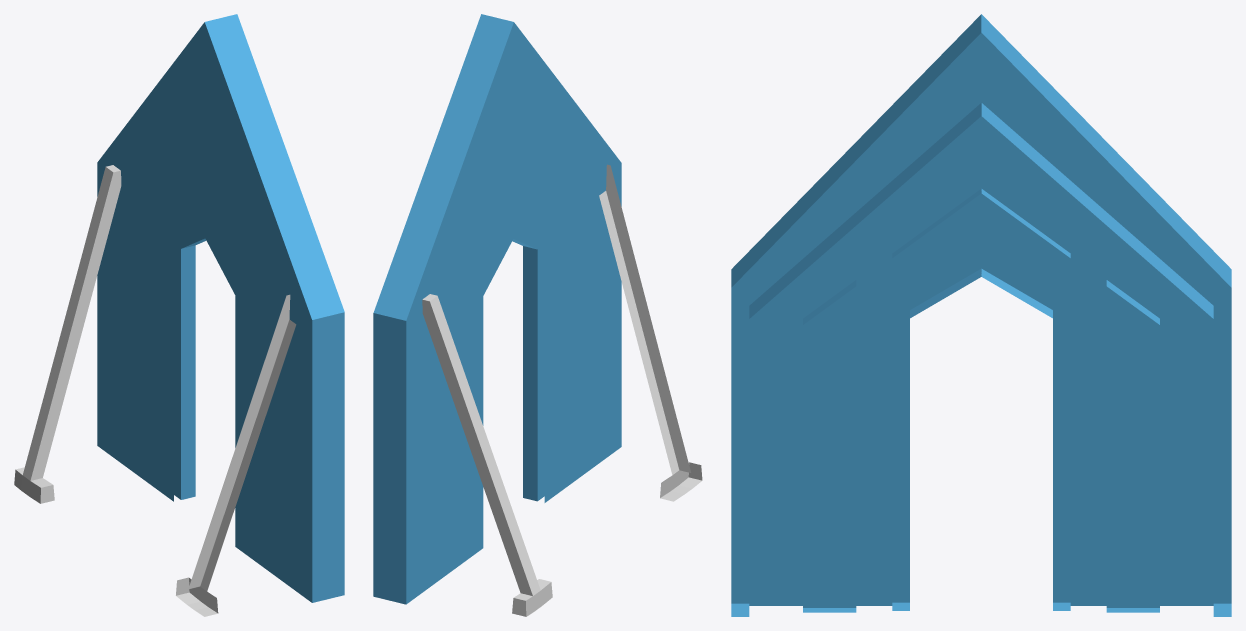
Rendered from house sides3.glb.
3 renders of one model, left to right at view 1: azimuth 30°, elevation 25°; view 2: azimuth 150°, elevation 25°; view 3: azimuth 270°, elevation 25°, orthographic. The views are drawn at different scales.
Parts seen in each view (by area): view 1: Cube, Cube.002, Cube.001; view 2: Cube, Cube.002, Cube.001; view 3: Cube.
Boxes of the visible parts, x1,y1,x2,y2 form: Cube: (97, 14, 344, 602); Cube.002: (14, 165, 121, 503); Cube.001: (176, 294, 296, 616); Cube: (373, 14, 621, 604); Cube.002: (422, 294, 552, 616); Cube.001: (599, 164, 702, 501); Cube: (731, 14, 1231, 616).
Bounding box in the file's own units: 0.8613 × 3.09 × 2.39.
